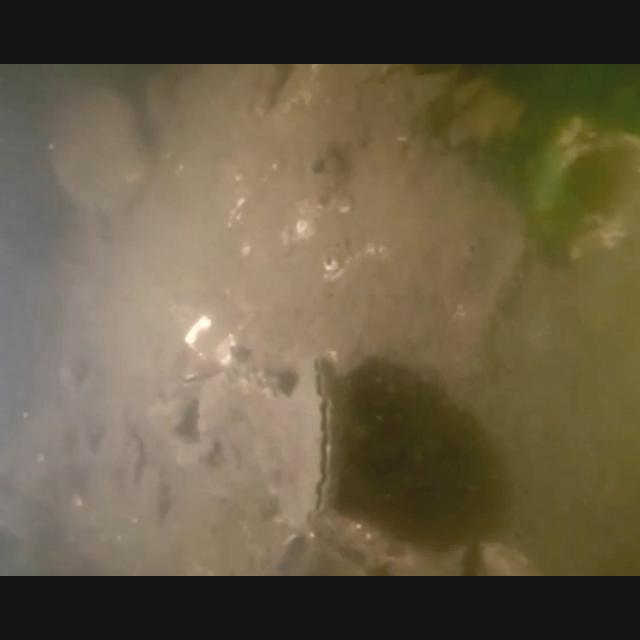Oyster-Open: (256, 352, 346, 532), (194, 362, 292, 510)
